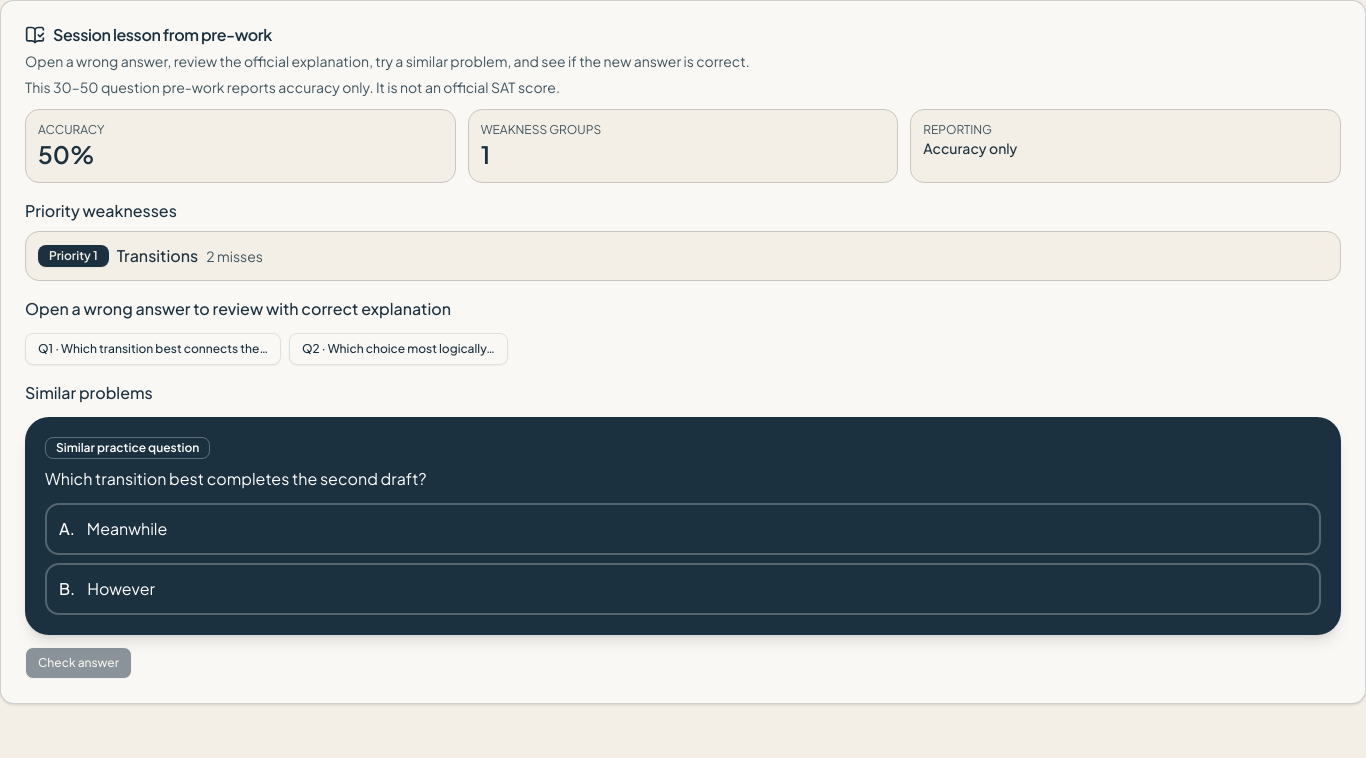
Test: session lesson dashboard › a miss without an official explanation shows written coaching instead of an empty stub
This screenshot has width=1366, height=758.
Click the button with test id "miss-picker-q2": [398, 349] box top-left (289, 333), bottom-right (508, 365)
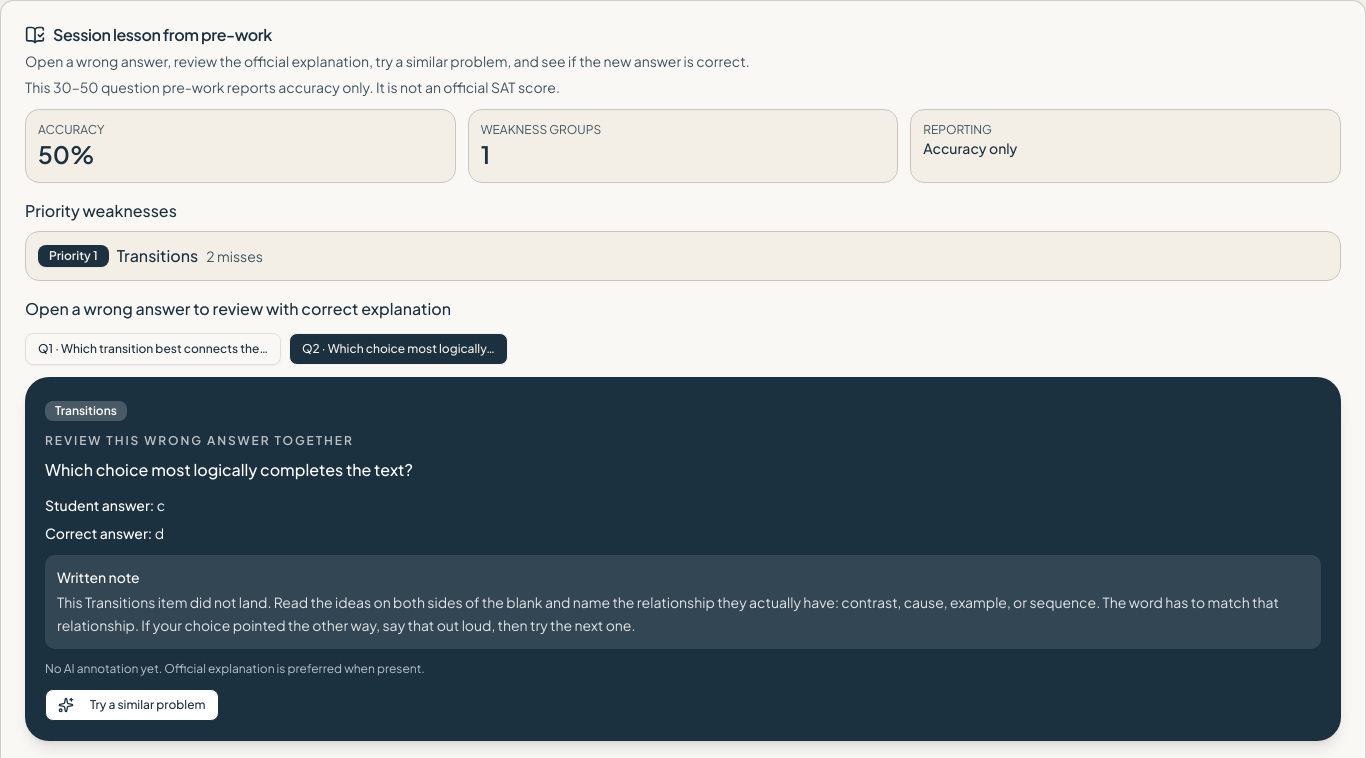
Check: the element with test id "opened-miss" shows "Written note", box top-left (57, 568), bottom-right (140, 586)
Check: the element with test id "opened-miss" shows "Transitions", box top-left (55, 403), bottom-right (117, 418)
Check: the element with test id "opened-miss" shows "contrast, cause, example, or sequence", box top-left (57, 593), bottom-right (1279, 634)
